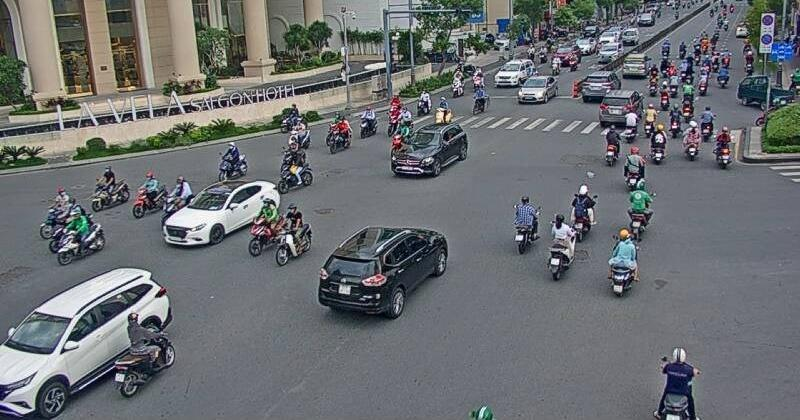xe hoi: (0, 267, 172, 416), (318, 226, 448, 318), (163, 179, 279, 247), (391, 122, 468, 176), (598, 88, 642, 127)
xe may: (113, 312, 175, 397), (659, 347, 701, 420), (55, 209, 106, 267), (275, 203, 312, 266), (608, 228, 639, 297), (547, 214, 576, 281), (90, 165, 131, 212), (132, 171, 166, 219), (513, 195, 540, 254), (627, 180, 653, 240), (248, 197, 274, 256), (571, 184, 595, 241), (217, 141, 247, 179), (622, 146, 644, 192), (681, 120, 700, 161), (715, 125, 732, 167), (650, 123, 667, 164), (604, 124, 620, 167), (642, 103, 660, 138), (359, 105, 378, 138), (700, 105, 716, 142), (667, 103, 683, 139), (433, 96, 454, 122)
